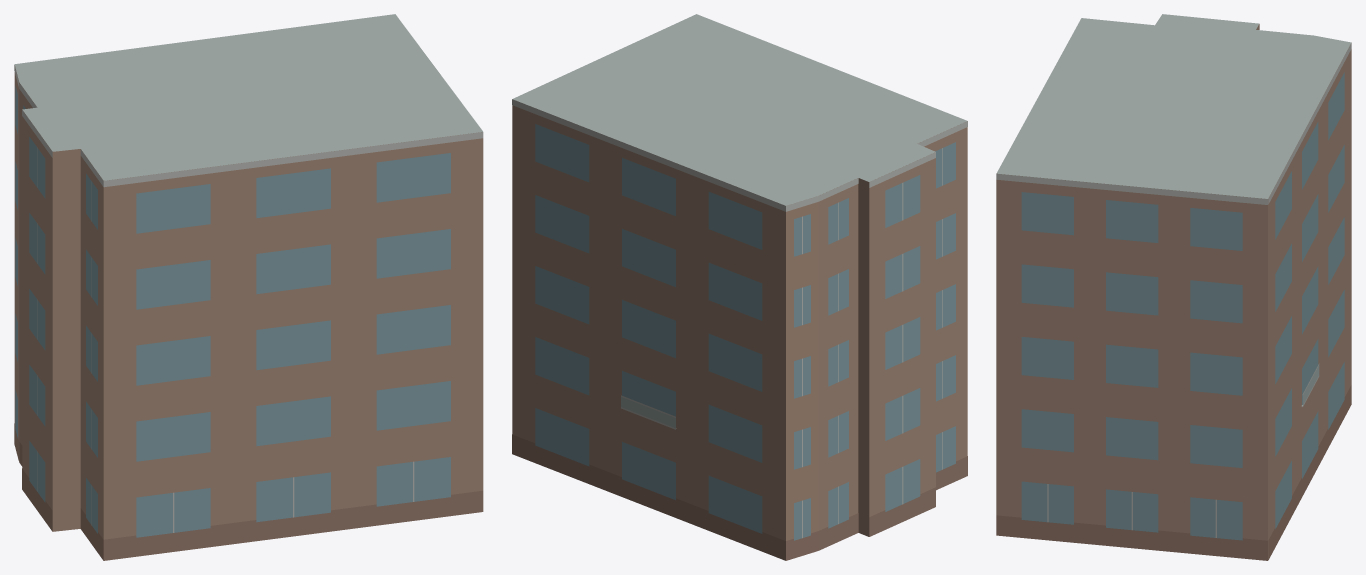
The model's file is survey-upis-32458166.glb.
The picture shows the model from 3 angles, left to right: view 1: azimuth 30°, elevation 25°; view 2: azimuth 150°, elevation 25°; view 3: azimuth 270°, elevation 25°; orthographic projection. The views are drawn at different scales.
Parts seen in each view (by area): view 1: survey-upis-32458166.tmp; view 2: survey-upis-32458166.tmp; view 3: survey-upis-32458166.tmp.
Boxes of the visible parts, x1,y1,x2,y2 form: survey-upis-32458166.tmp: (14, 14, 483, 560); survey-upis-32458166.tmp: (512, 14, 967, 560); survey-upis-32458166.tmp: (996, 14, 1351, 560).
Size of the model in its own units: 15.91 by 14.5 by 12.91.
